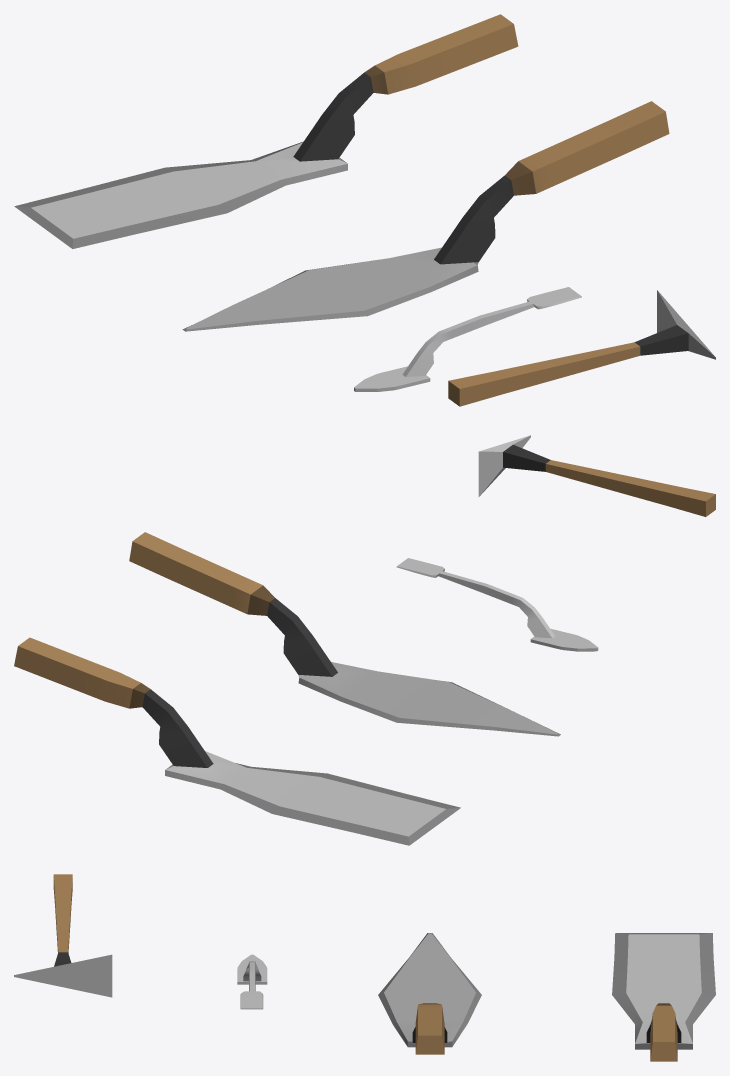
The model's file is Asset Tools.fbx.
3 views of the same model, one above another, from view 1: azimuth 30°, elevation 25°; view 2: azimuth 150°, elevation 25°; view 3: azimuth 270°, elevation 25° (orthographic). The views are drawn at different scales.
Visible parts, largest first — view 1: pCube5; view 2: pCube5; view 3: pCube5.
Boxes of the visible parts, <box> form: pCube5: <box>14,14,715,406</box>; pCube5: <box>14,435,715,845</box>; pCube5: <box>14,874,715,1061</box>.
Bounding box in the file's own units: 7.89 × 1.77 × 12.08.
